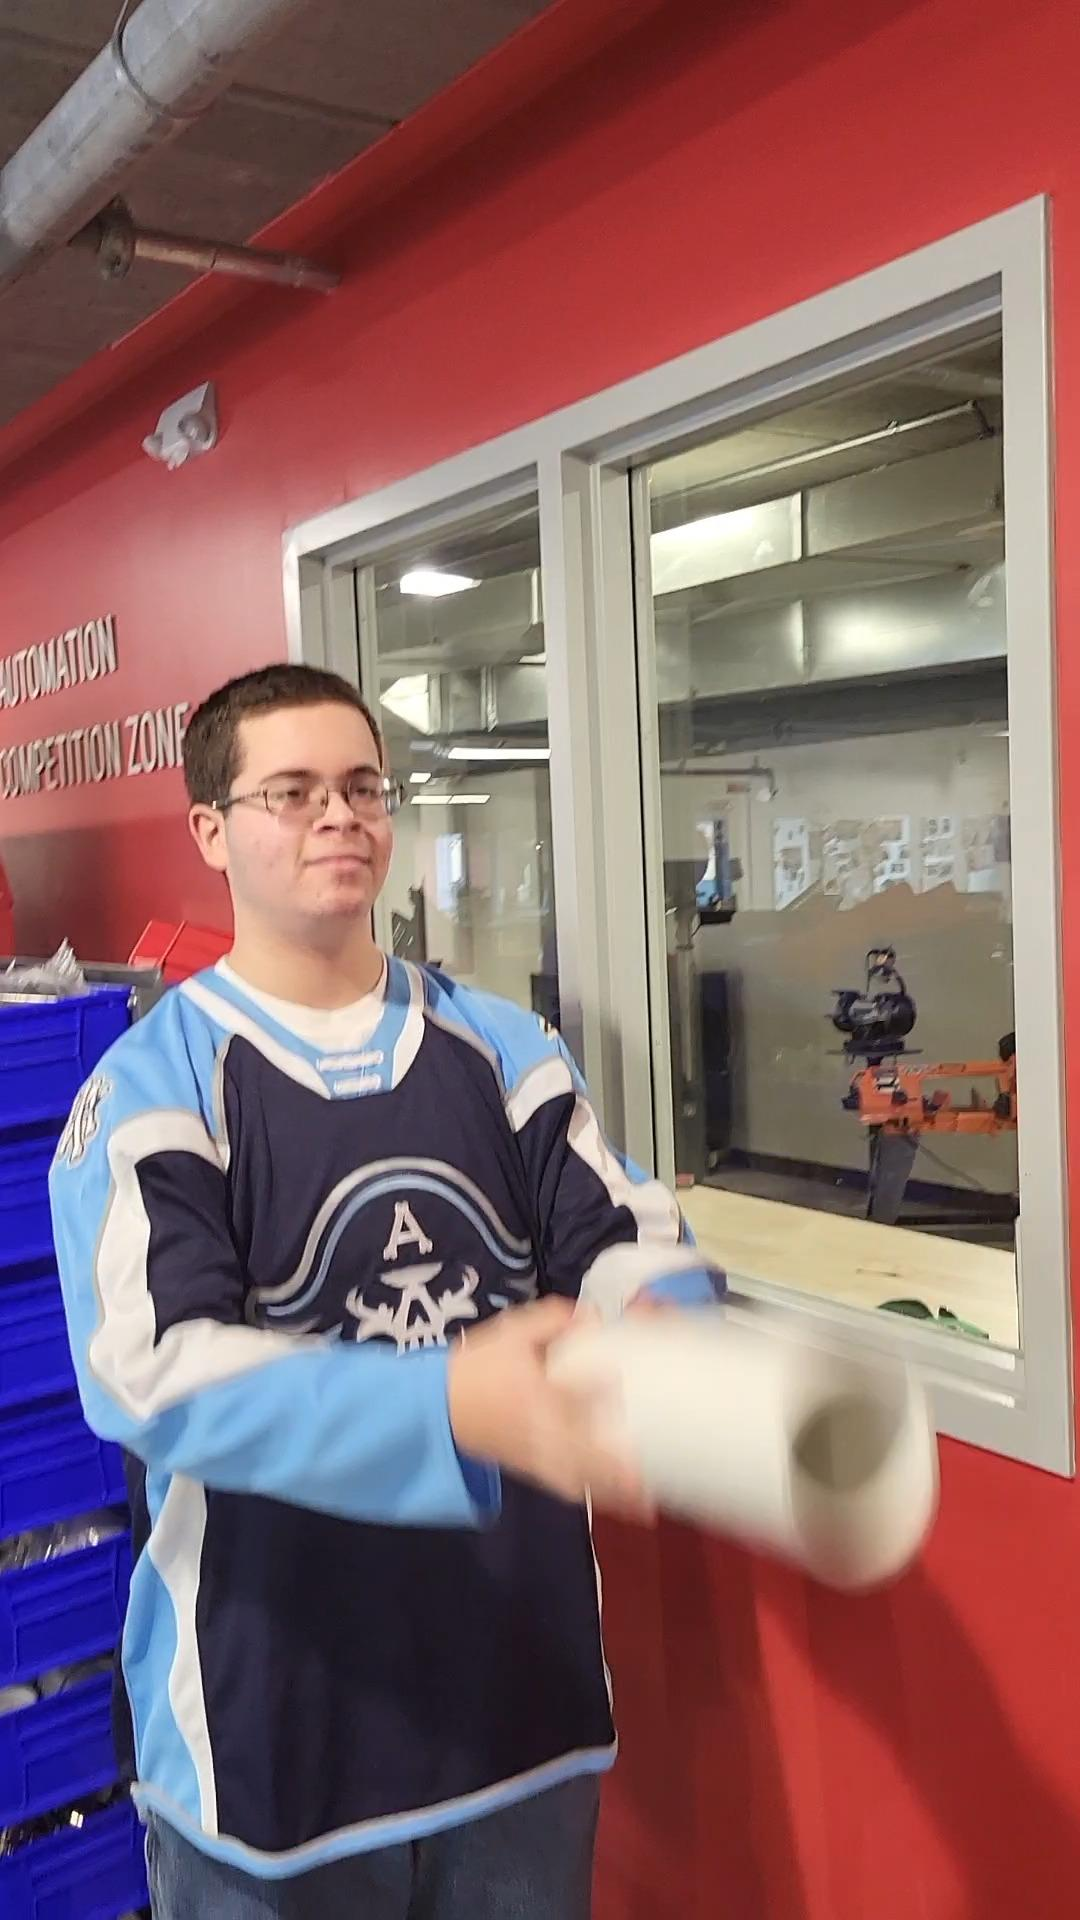coral: (520, 1295, 964, 1597)
